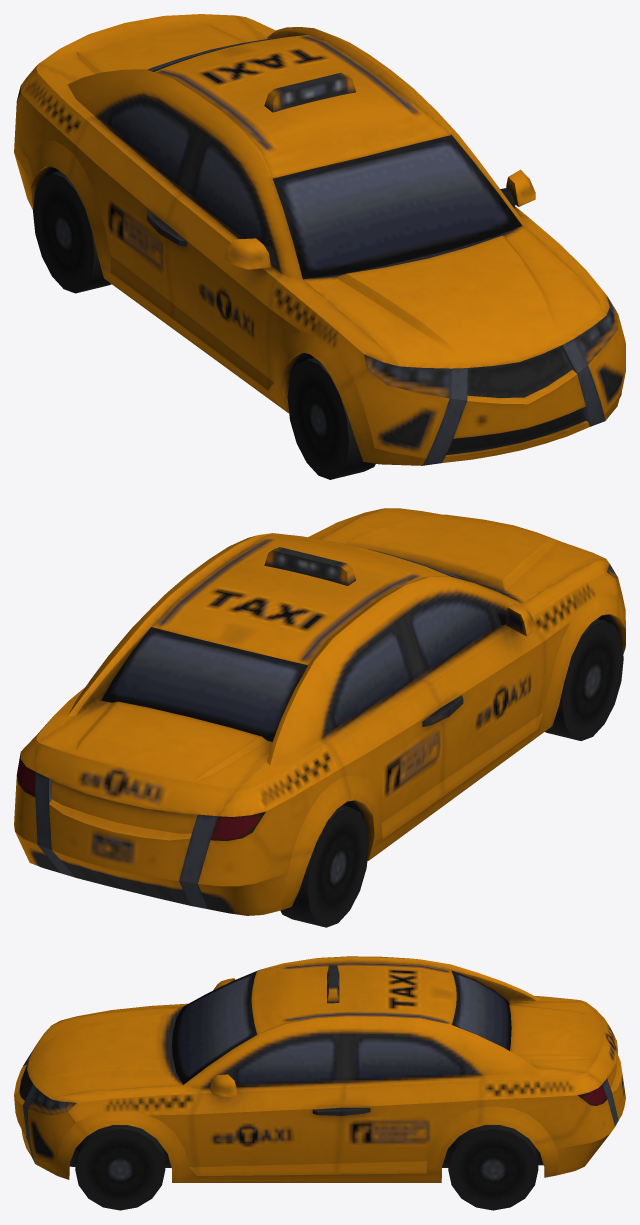
Rendered from taxi.glb.
3 renders of one model, top to bottom at view 1: azimuth 30°, elevation 25°; view 2: azimuth 150°, elevation 25°; view 3: azimuth 270°, elevation 25°, orthographic. The views are drawn at different scales.
Visible parts, largest first — view 1: e7_taxi_0__0; view 2: e7_taxi_0__0; view 3: e7_taxi_0__0.
Boxes of the visible parts, x1,y1,x2,y2 form: e7_taxi_0__0: (14,14,625,479); e7_taxi_0__0: (14,508,625,927); e7_taxi_0__0: (14,956,625,1210).
Bounding box in the file's own units: 227 × 182 × 544.
Materials: 1 (1 with a texture image).
